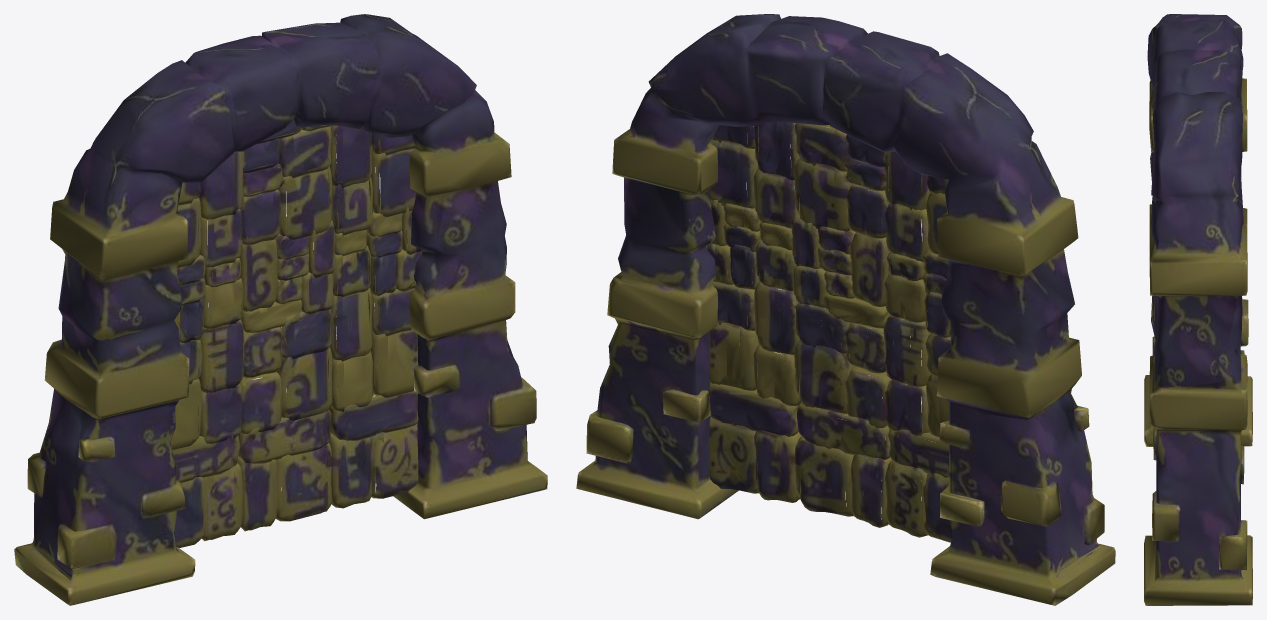
The model's file is breakablelWallWhole_LowPolyCompressed.glb.
3 renders of one model, left to right at view 1: azimuth 30°, elevation 25°; view 2: azimuth 150°, elevation 25°; view 3: azimuth 270°, elevation 25°, orthographic. The views are drawn at different scales.
Parts seen in each view (by area): view 1: Mesh_0.005; view 2: Mesh_0.005; view 3: Mesh_0.005.
Part boxes in pixels (x1,y1,x2,y2): Mesh_0.005: [14, 14, 547, 605]; Mesh_0.005: [576, 14, 1115, 605]; Mesh_0.005: [1144, 14, 1252, 605].
Size of the model in its own units: 2.11 by 2.04 by 0.4468.
2 materials, 2 textured.
